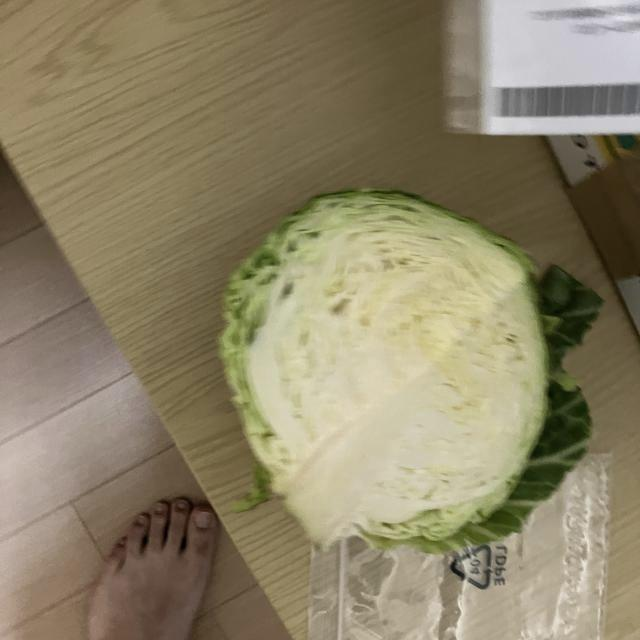cabbage: (217, 184, 604, 572)
